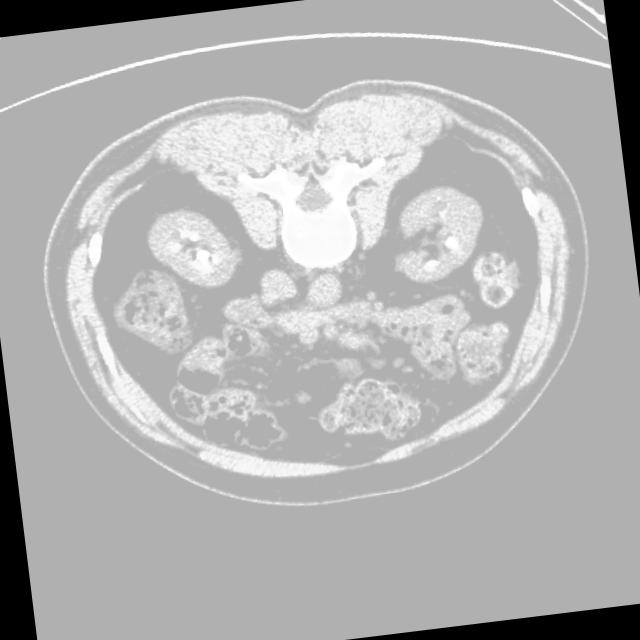STONE: (100, 171, 512, 464)
